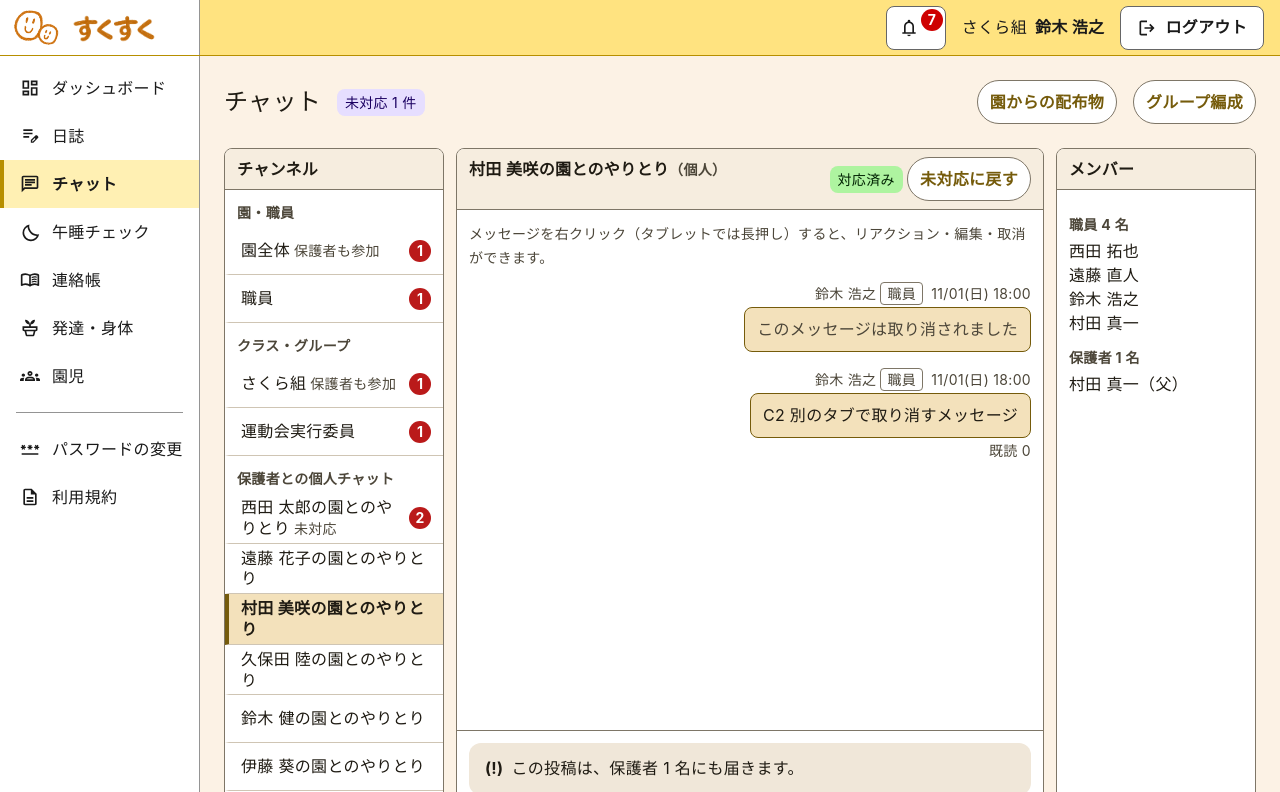
Test: 取消は確かめてから行い、できなかったときは知らせる（GitHub Issue #141 の 2・#171 の 7） › 職員：別の画面ですでに取り消されていたら、取り消せなかったことを出す
The width and height of the screenshot is (1280, 792).
Expected: the 2nd element with class "msg" is shown, 750,368 -> 1031,459
Right-click the text with class "bubble" showing "C2 別のタブで取り消すメッセージ" at (890, 415), box 750,393 -> 1031,438
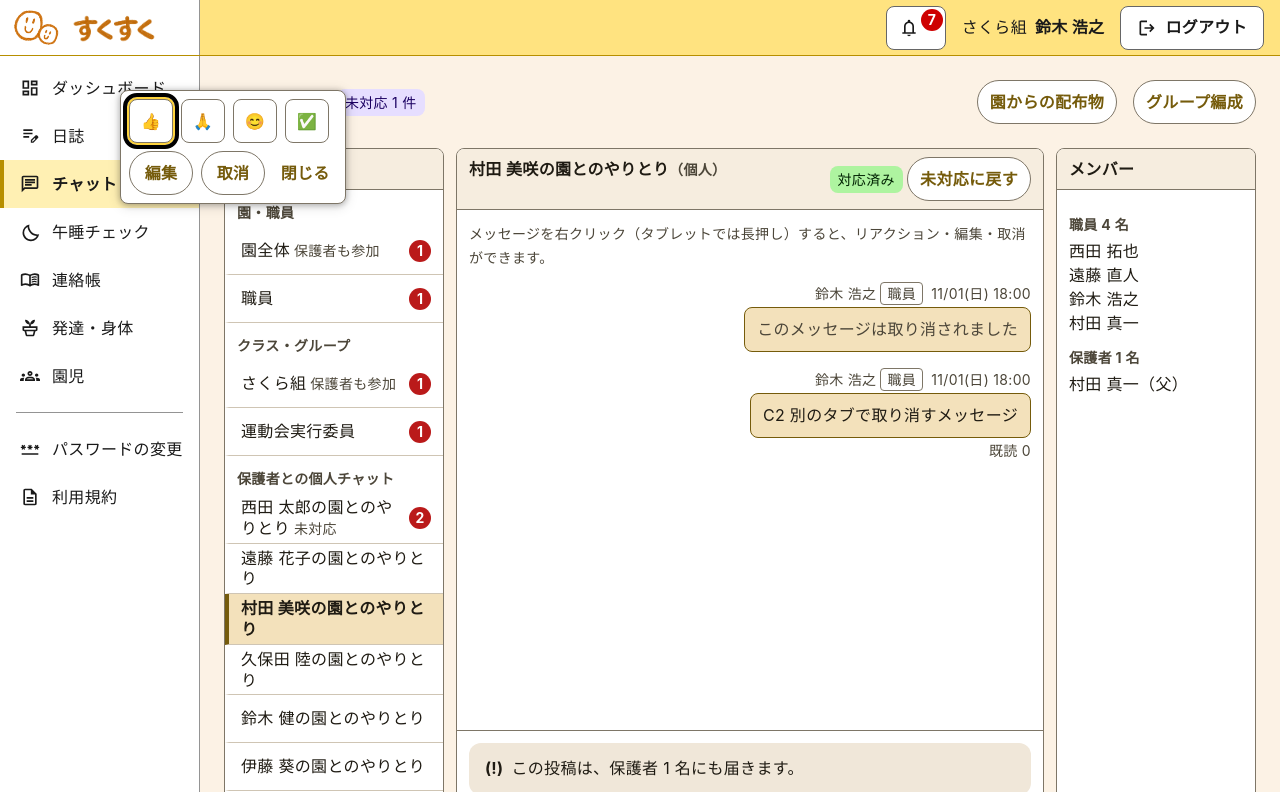
Click the button "取消" at (233, 173), box 201,151 -> 265,195
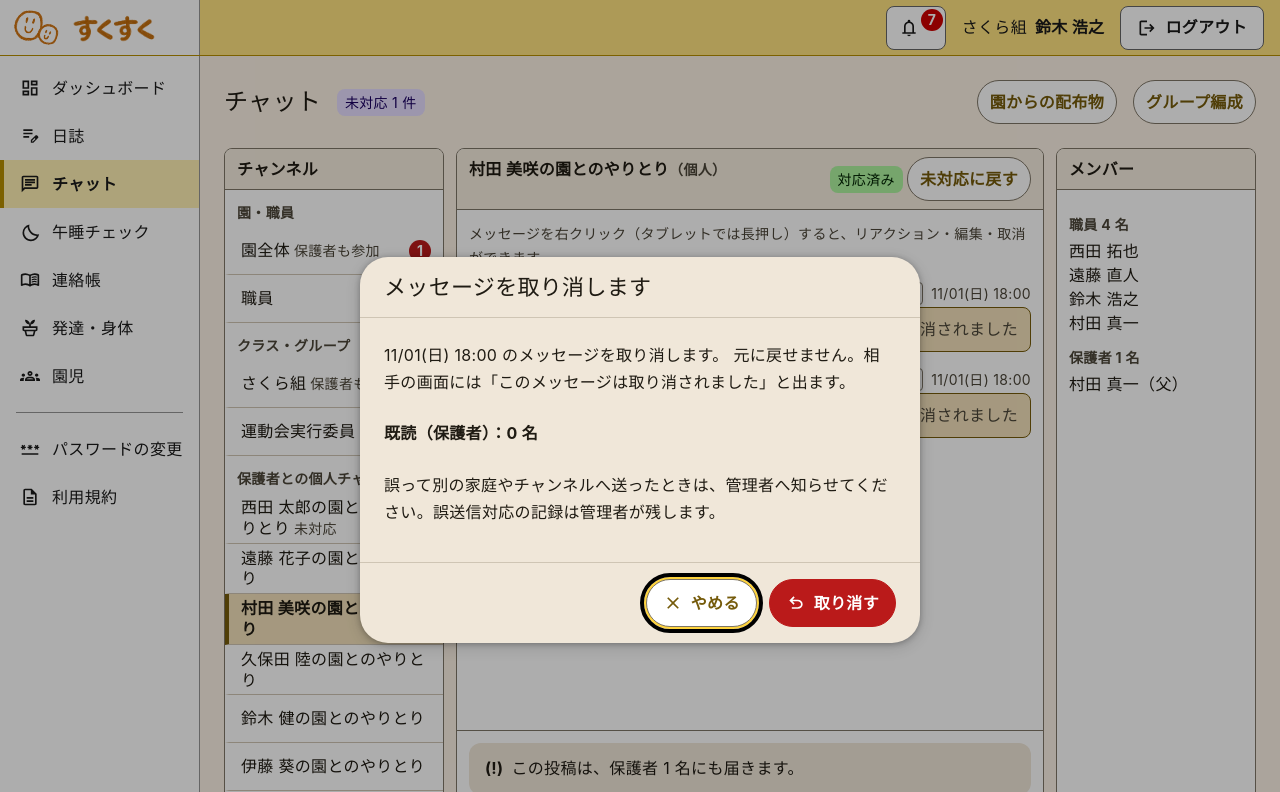
Expected: the dialog is shown, 360,257 -> 920,643
Click the button "取り消す" at (832, 603), box 769,579 -> 896,627
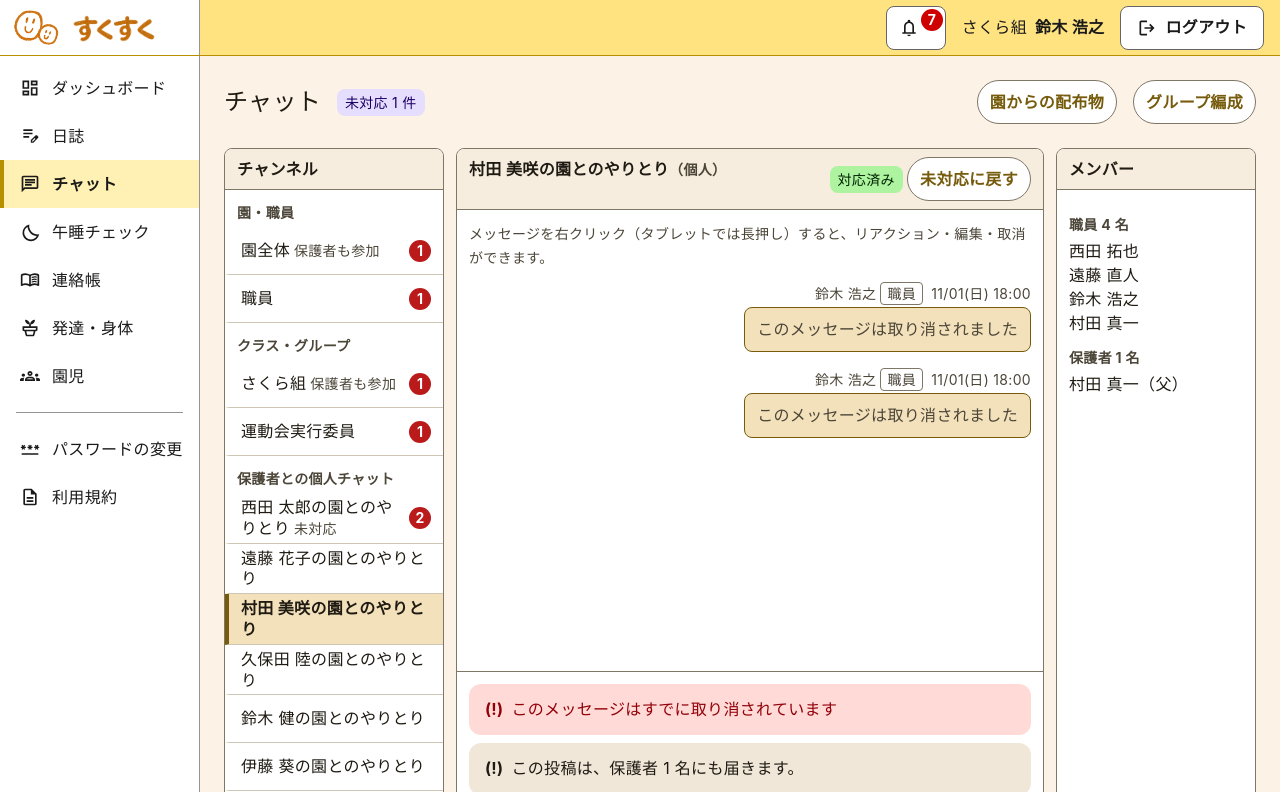
Expected: the text "このメッセージはすでに取り消されています" is shown, 511,696 -> 837,724
